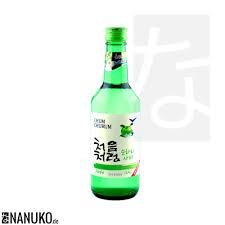soju: (88, 25, 143, 200)
